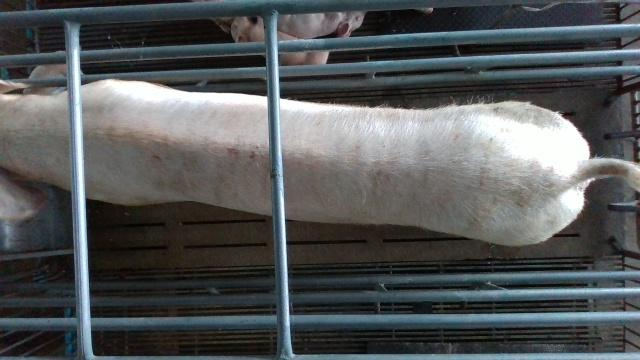piglet: (231, 17, 329, 65), (277, 11, 369, 38)
sow-stand-feed: (1, 51, 640, 246)
